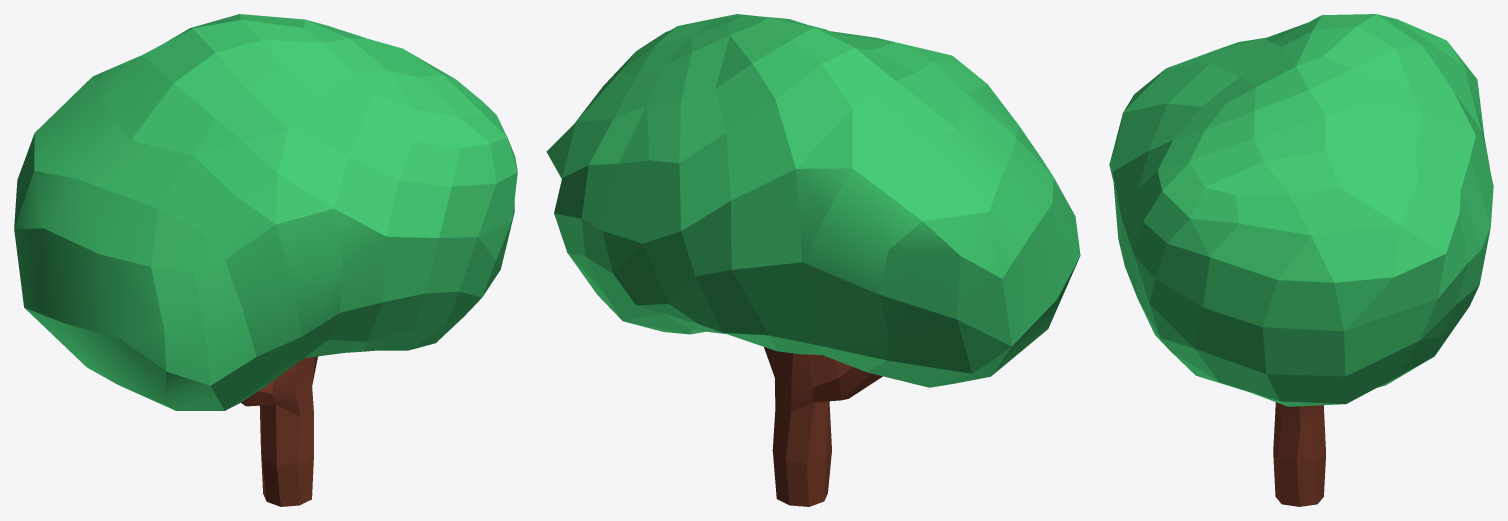
Rendered from maya_export_Tree4_v3.fbx.
3 renders of one model, left to right at view 1: azimuth 30°, elevation 25°; view 2: azimuth 150°, elevation 25°; view 3: azimuth 270°, elevation 25°, orthographic. The views are drawn at different scales.
Visible parts, largest first — view 1: Tree4_v3; view 2: Tree4_v3; view 3: Tree4_v3.
Boxes of the visible parts, bbox=[...] form: Tree4_v3: bbox=[14, 14, 517, 506]; Tree4_v3: bbox=[546, 14, 1080, 506]; Tree4_v3: bbox=[1109, 14, 1493, 506].
Bounding box in the file's own units: 7.87 × 7.89 × 5.95.
1 material, 1 textured.
